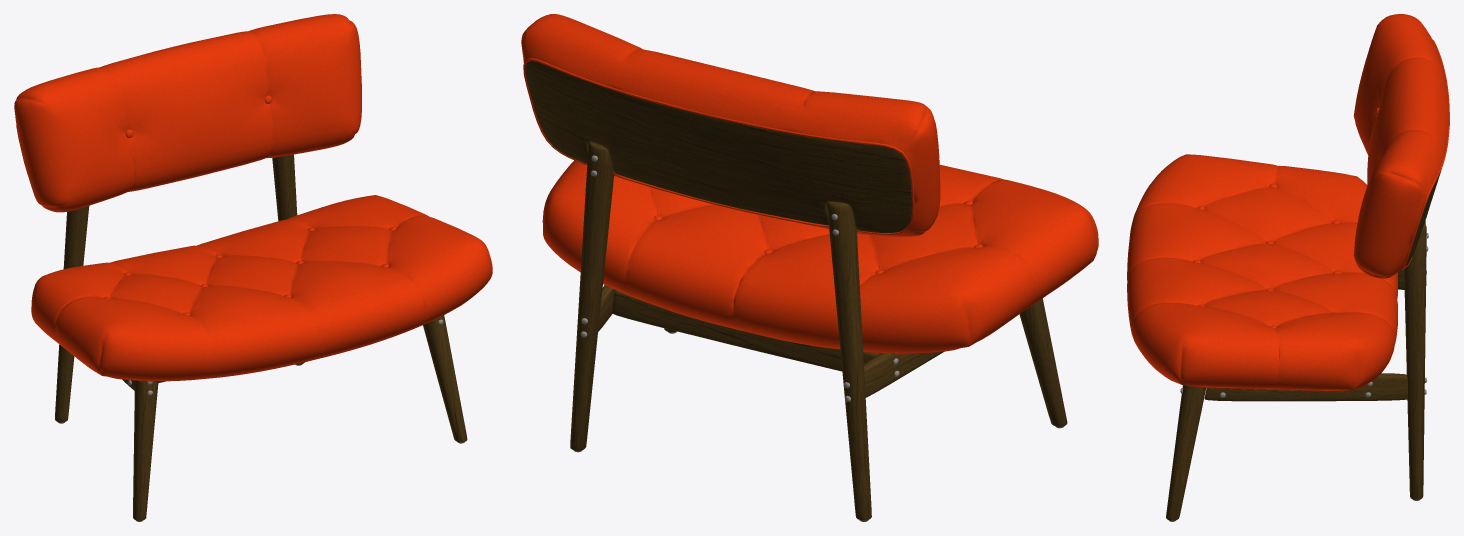
File: armchair.glb
3 views of the same model, side by side, from view 1: azimuth 30°, elevation 25°; view 2: azimuth 150°, elevation 25°; view 3: azimuth 270°, elevation 25° (orthographic). The views are drawn at different scales.
Visible parts, largest first — view 1: SheenChair_fabric, SheenChair_wood; view 2: SheenChair_fabric, SheenChair_wood; view 3: SheenChair_fabric, SheenChair_wood.
Part boxes in pixels (x1=…): SheenChair_fabric: x1=14, y1=14, x2=492, y2=381; SheenChair_wood: x1=55, y1=154, x2=467, y2=520; SheenChair_fabric: x1=521, y1=14, x2=1098, y2=354; SheenChair_wood: x1=525, y1=61, x2=1067, y2=520; SheenChair_fabric: x1=1127, y1=14, x2=1449, y2=391; SheenChair_wood: x1=1166, y1=169, x2=1441, y2=520.
Bounding box in the file's own units: 0.8266 × 0.6861 × 0.57.
4 materials, 3 textured.
